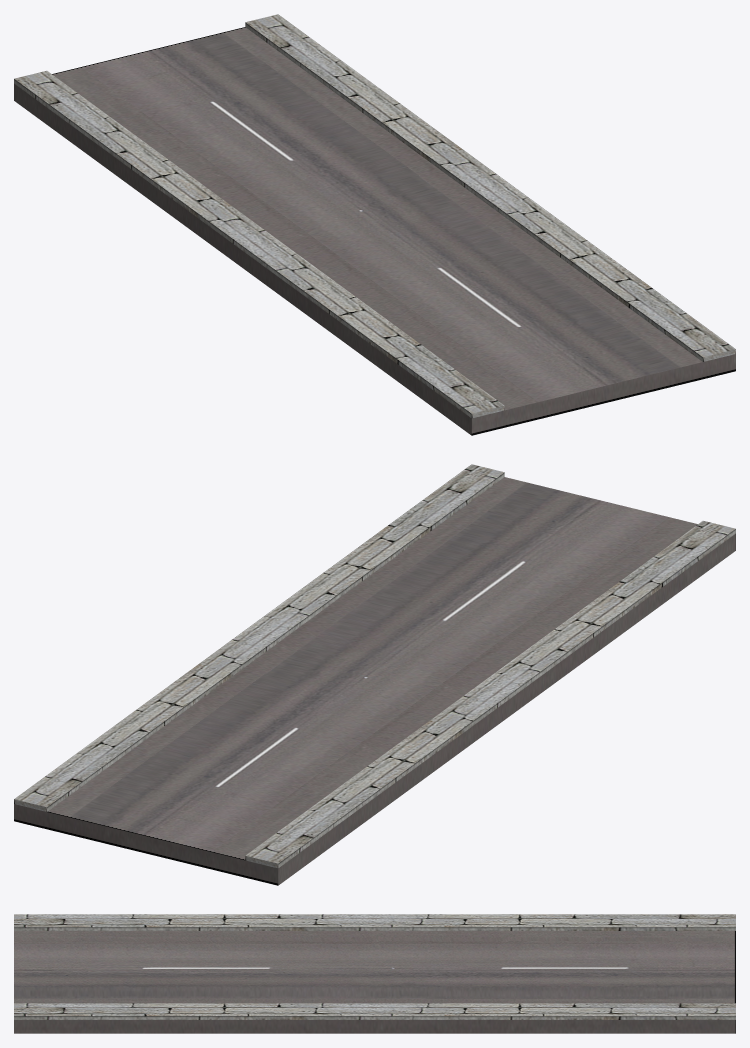
Rendered from - Road(Small).FBX.
The picture shows the model from 3 angles, top to bottom: view 1: azimuth 30°, elevation 25°; view 2: azimuth 150°, elevation 25°; view 3: azimuth 270°, elevation 25°; orthographic projection. The views are drawn at different scales.
Parts seen in each view (by area): view 1: l Road(Small); view 2: l Road(Small); view 3: l Road(Small).
Boxes of the visible parts, x1,y1,x2,y2 form: l Road(Small): [14, 14, 735, 435]; l Road(Small): [14, 464, 735, 885]; l Road(Small): [14, 914, 735, 1033].
Size of the model in its own units: 800 by 63.69 by 2400.
